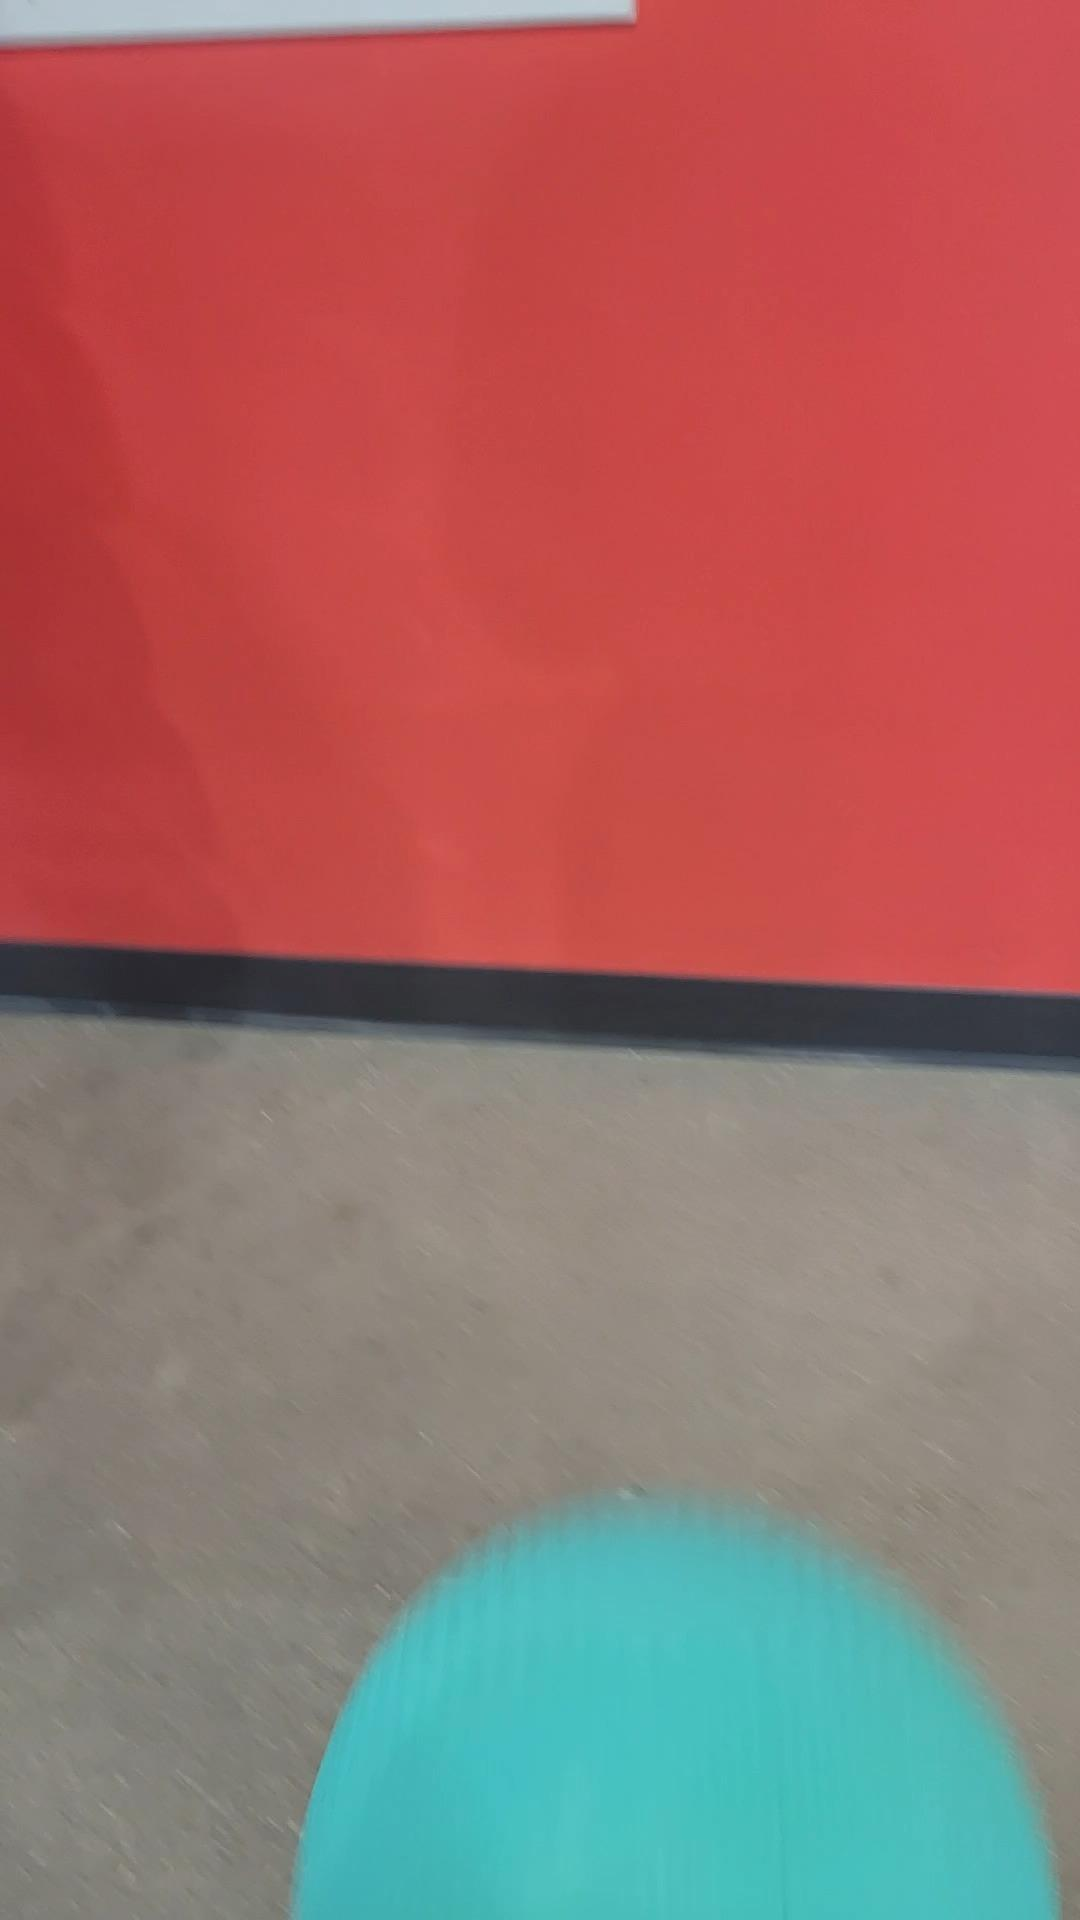algae: (301, 1501, 1063, 1920)
